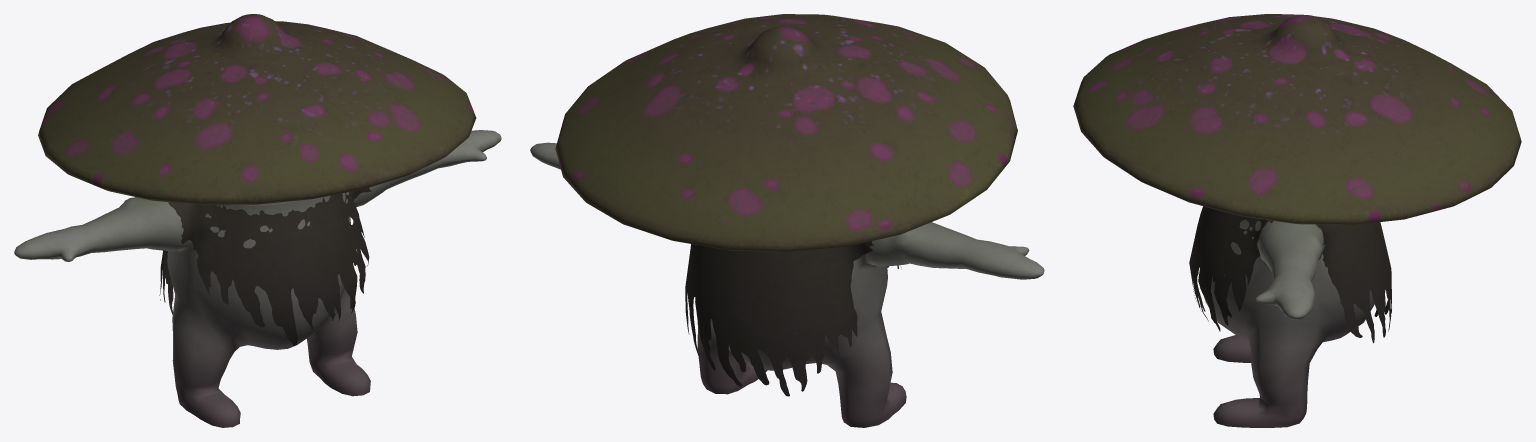
File: Mushroom_End.fbx
3 views of the same model, side by side, from view 1: azimuth 30°, elevation 25°; view 2: azimuth 150°, elevation 25°; view 3: azimuth 270°, elevation 25° (orthographic). The views are drawn at different scales.
Parts seen in each view (by area): view 1: Mushroom_Body, Mushroom_Hood; view 2: Mushroom_Body, Mushroom_Hood; view 3: Mushroom_Body, Mushroom_Hood.
Boxes of the visible parts, x1,y1,x2,y2 form: Mushroom_Body: (14, 14, 501, 427); Mushroom_Hood: (159, 187, 371, 346); Mushroom_Body: (530, 14, 1044, 427); Mushroom_Hood: (685, 241, 901, 396); Mushroom_Body: (1073, 14, 1521, 427); Mushroom_Hood: (1189, 206, 1391, 343).
Size of the model in its own units: 186 by 133 by 146.
